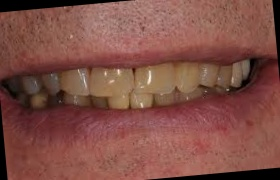Tooth Discoloration: (7, 70, 64, 109)
